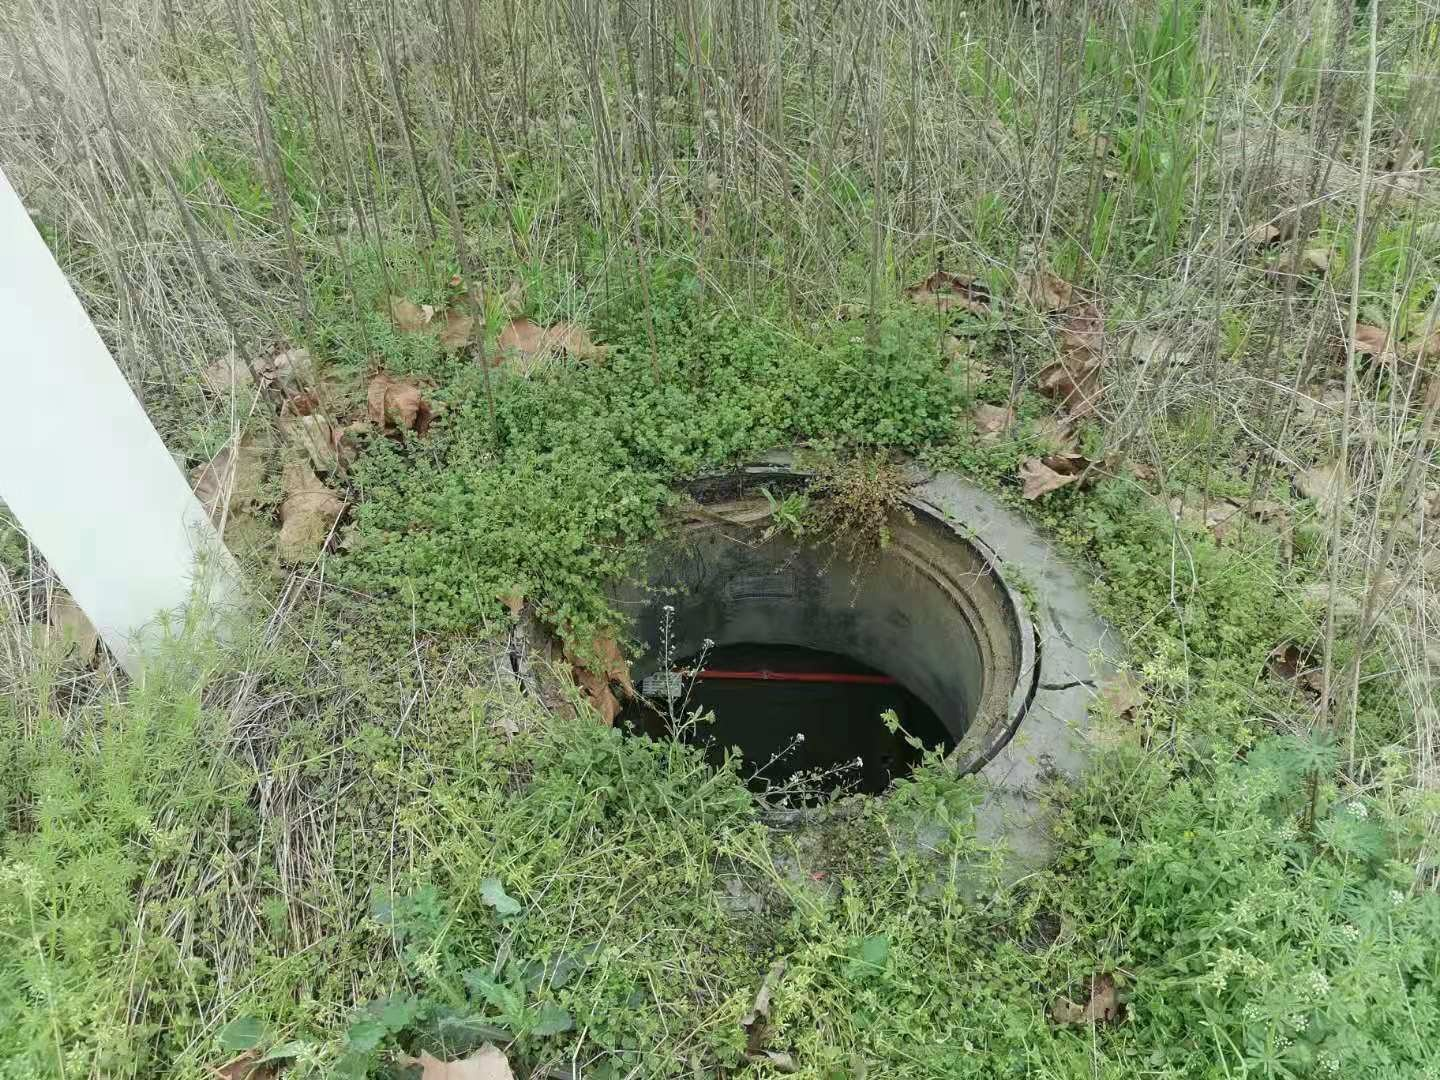lose: (500, 465, 1037, 824)
